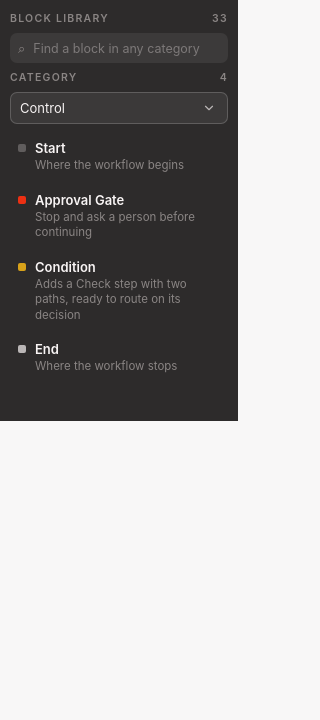
Test: the block library's default palette › reaches a library-tier action through search without expanding anything
This screenshot has width=320, height=720.
Step 1. Select "Understand" in the dropdown → (119, 108), box [10,92,228,124]
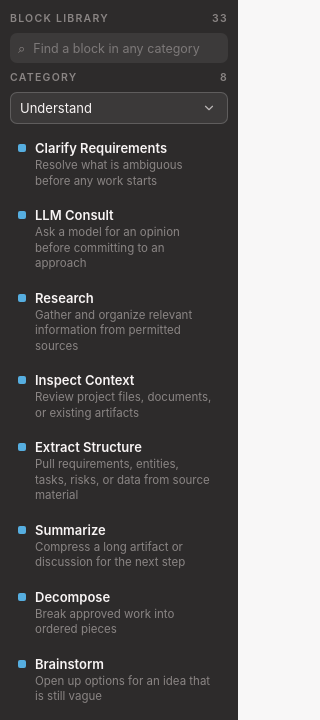
Expected: the text "Fact Check" is not shown
Step 2. Type "fact check" into the field with placeholder "Find a block in any category" → (126, 48), box [31,40,220,56]
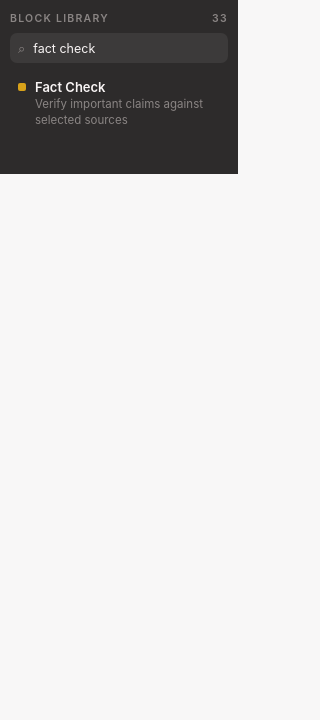
Expected: the text "Fact Check" is shown, [35,79,106,95]
